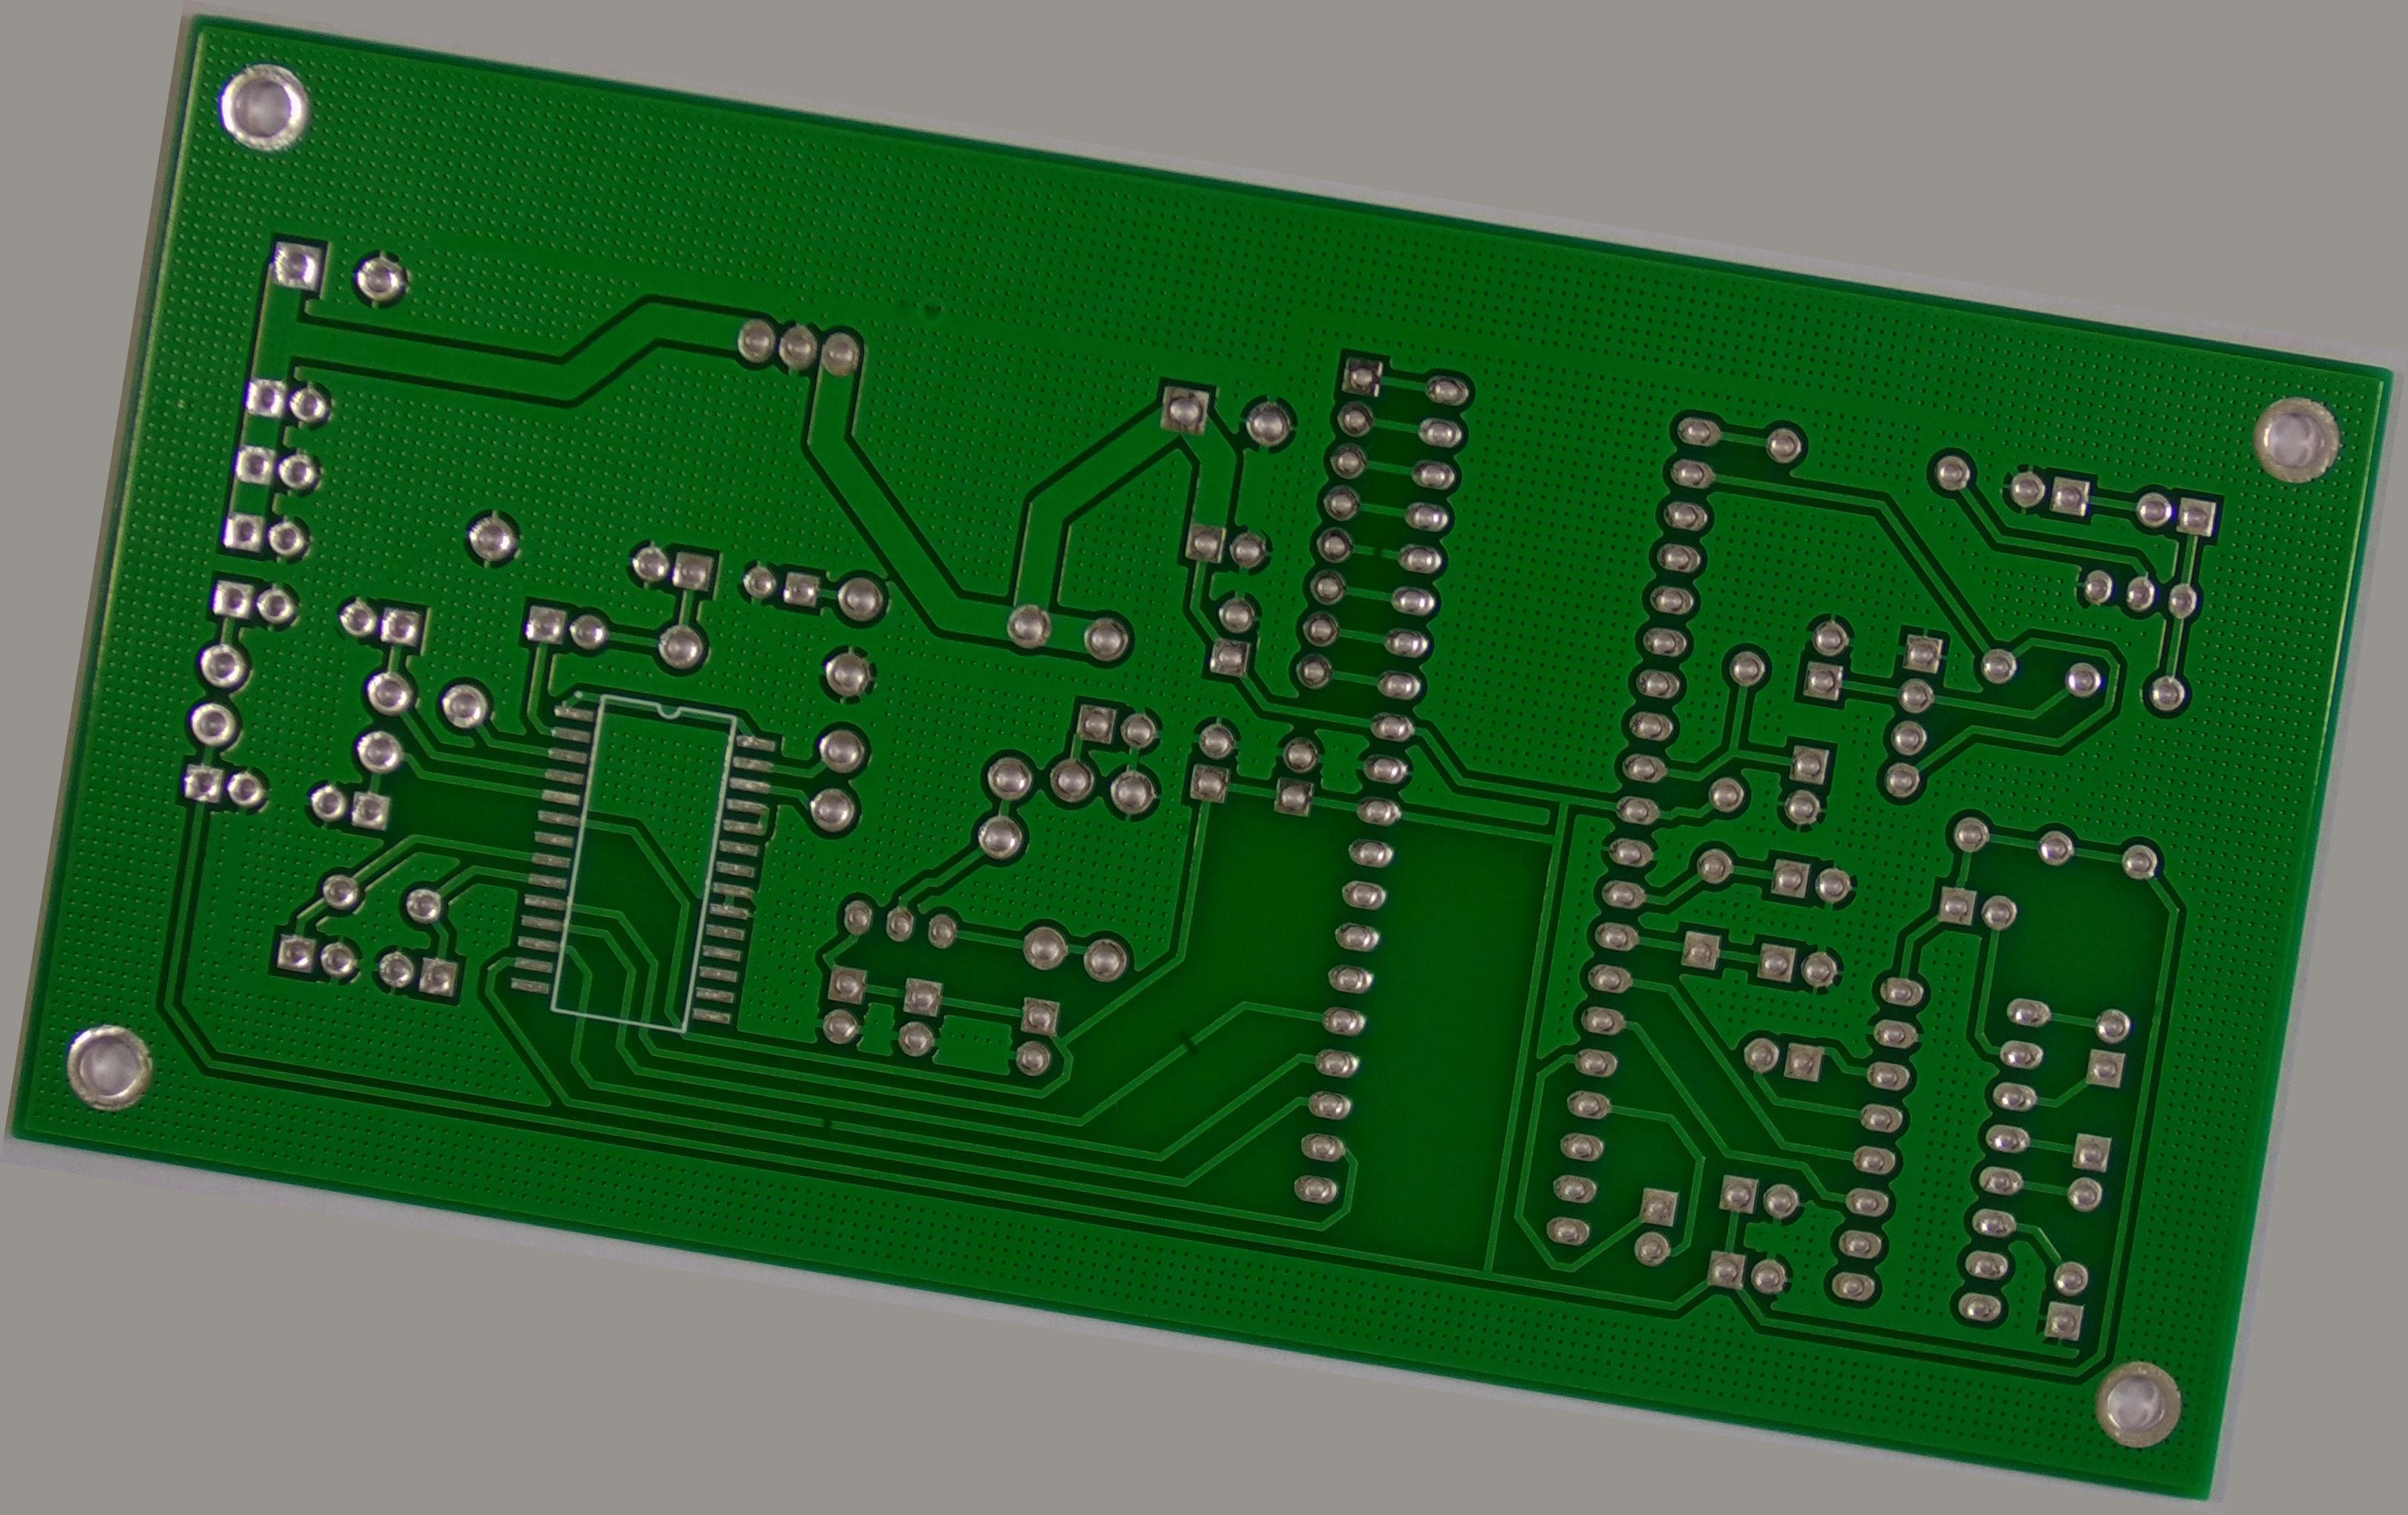open_circuit: (1221, 1096, 1256, 1150), (850, 1281, 883, 1318), (1337, 445, 1370, 480)
